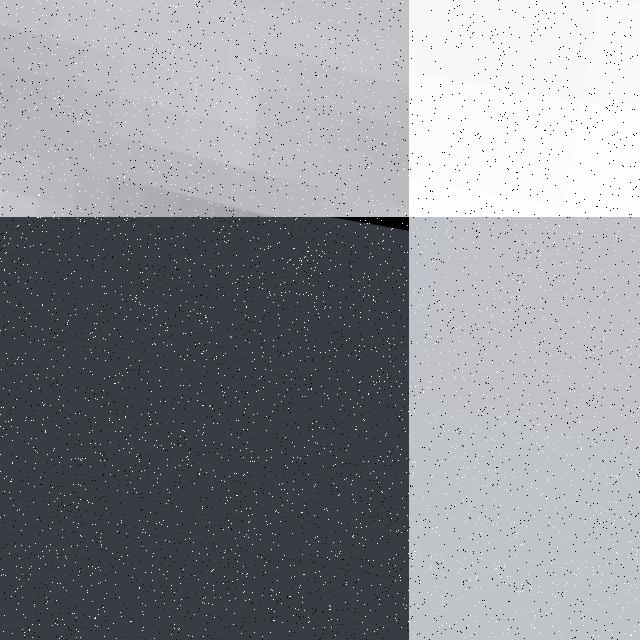drone: (0, 0, 409, 217)
